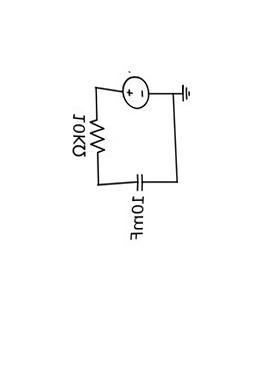Battery: (109, 63, 157, 118)
